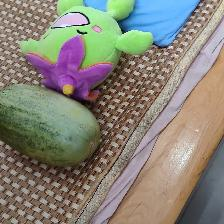gua: (5, 96, 99, 151)
